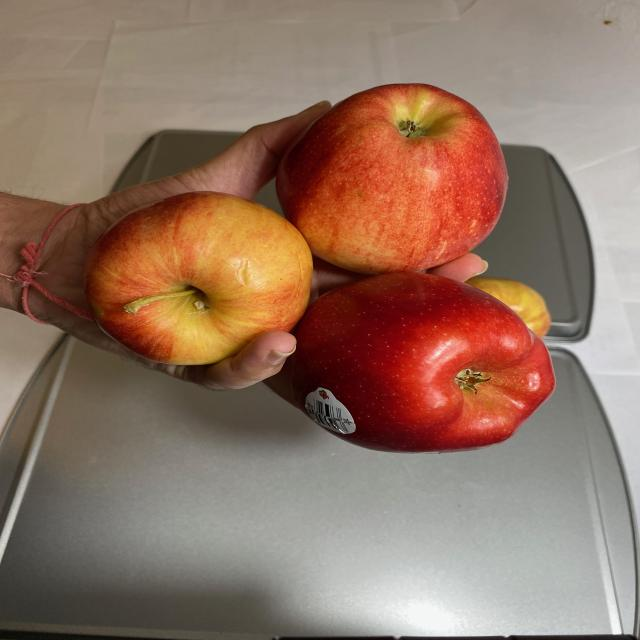apple: (74, 82, 562, 452)
